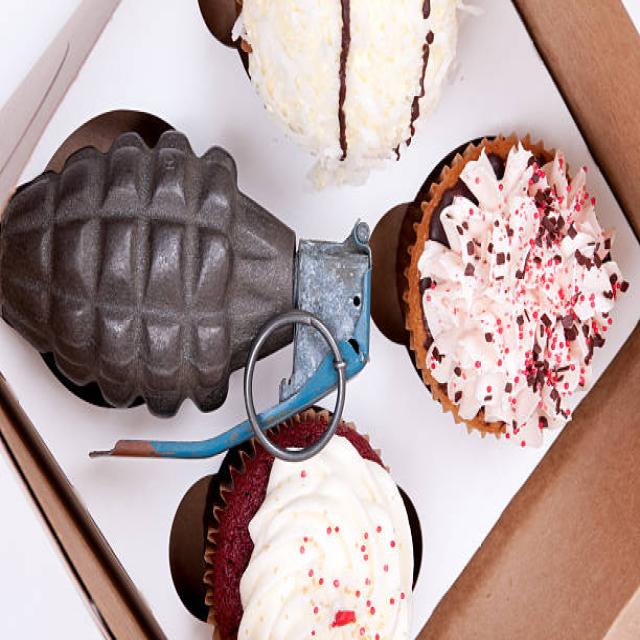grenade: (1, 115, 377, 478)
